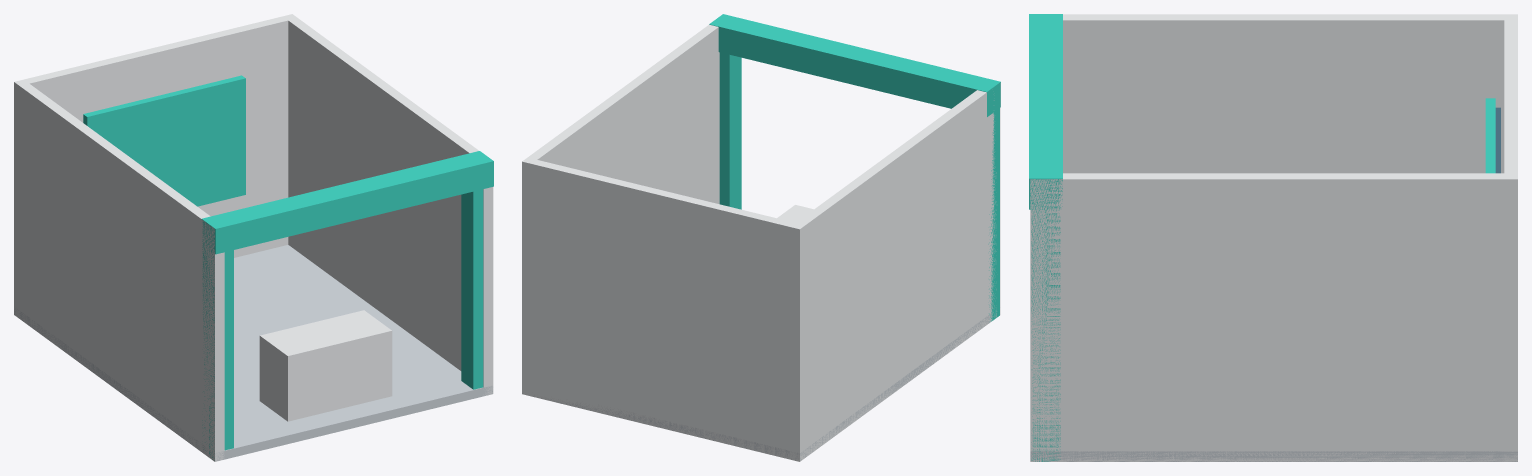
3 renders of one model, left to right at view 1: azimuth 30°, elevation 25°; view 2: azimuth 150°, elevation 25°; view 3: azimuth 270°, elevation 25°, orthographic. The views are drawn at different scales.
Visible parts, largest first — view 1: Exhibition Booth Concept; view 2: Exhibition Booth Concept; view 3: Exhibition Booth Concept.
Part boxes in pixels (left/top/right/bottom): Exhibition Booth Concept: left=14, top=14, right=493, bottom=461; Exhibition Booth Concept: left=522, top=14, right=1000, bottom=461; Exhibition Booth Concept: left=1029, top=14, right=1517, bottom=461.
Size of the model in its own units: 4 by 3.2 by 5.02.
